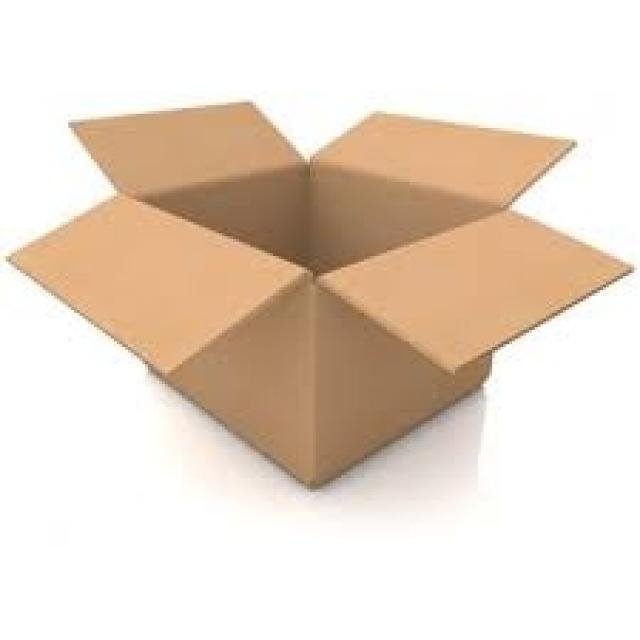cardboard paper: (10, 101, 628, 484)
